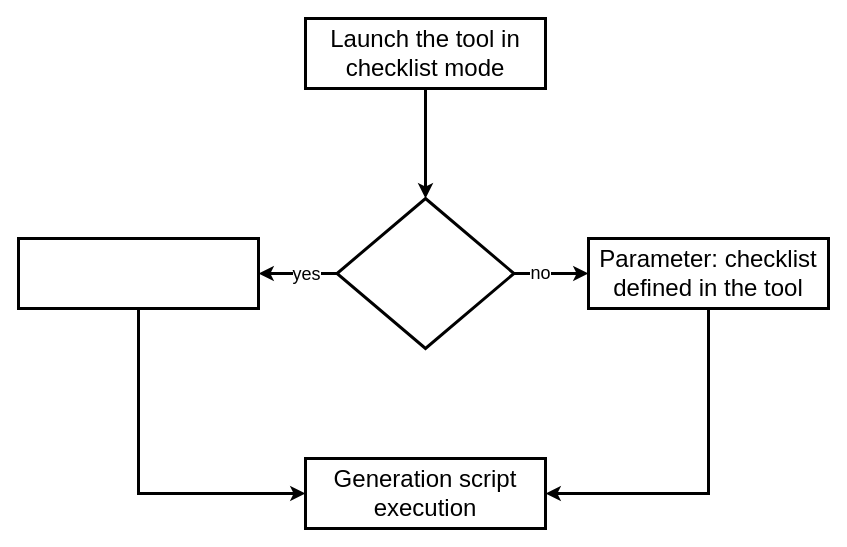
Some shapes in this 847 by 547 pixel diagram are drawn without their labels. Here are the shapes that lost their labels. From the top down, the centre of each, then its label:
At point (138, 273): "Parameter: path to the checklist".
At point (425, 273): "Personal checklist ?".
